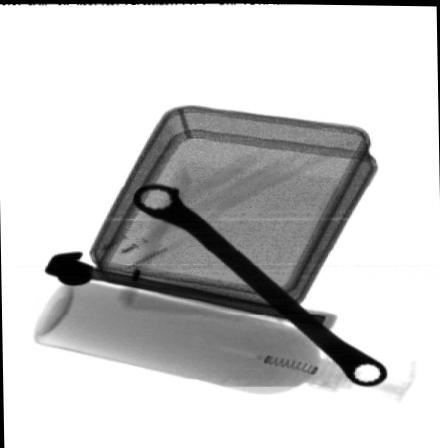Hammer: (44, 251, 337, 332)
Wrench: (132, 182, 387, 385)
